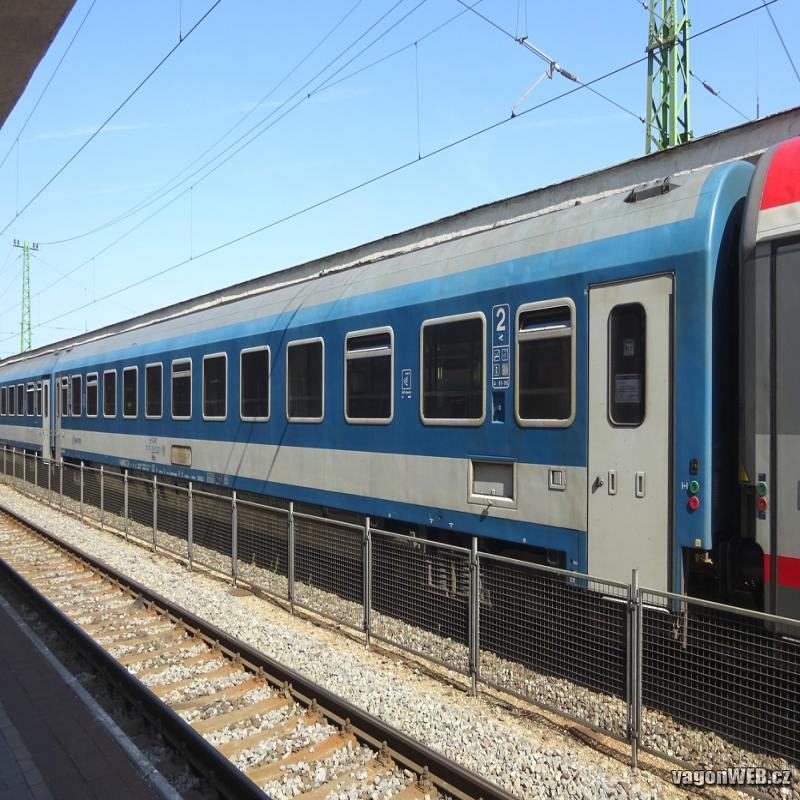train: (55, 160, 756, 585)
